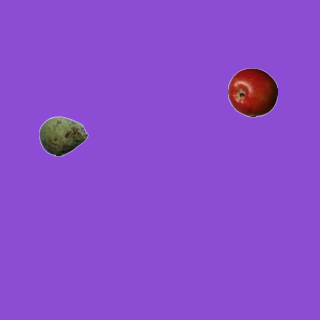Apple Braeburn: (227, 67, 277, 117)
Pear Stone: (38, 111, 88, 161)
